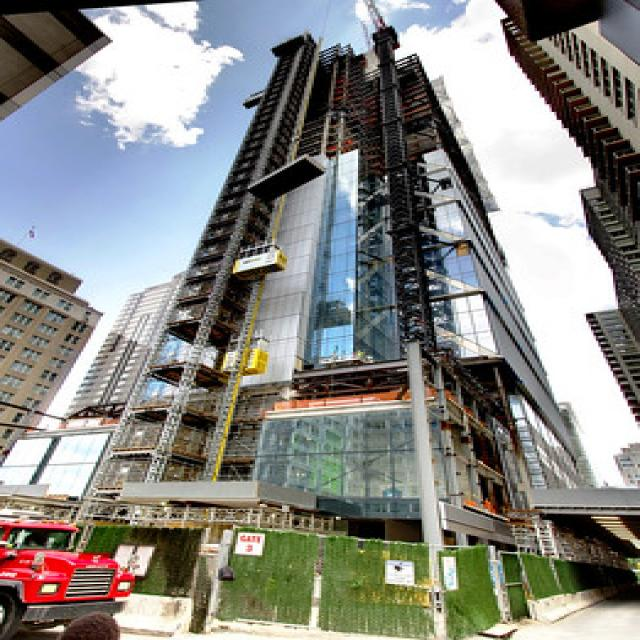Normal_building: (106, 16, 594, 614)
